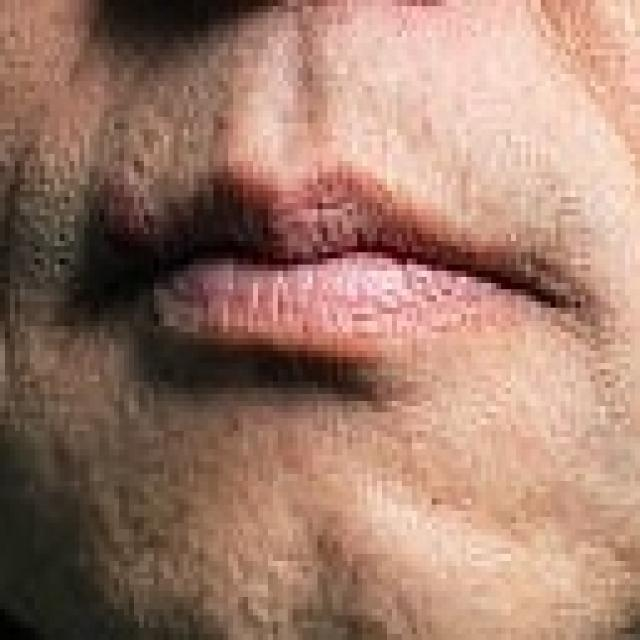closed-mouth: (132, 159, 564, 360)
